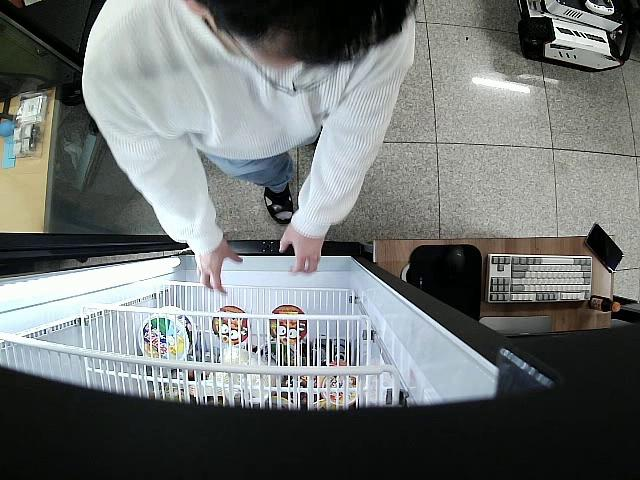00_hand: (195, 239, 243, 295), (279, 220, 325, 275)
